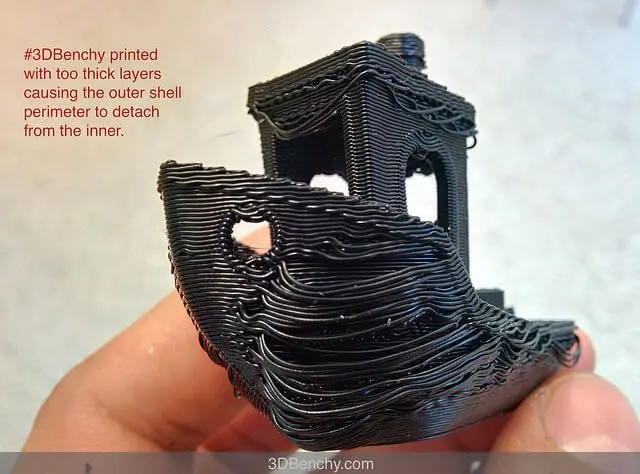under_extrusion: (235, 233, 436, 426)
